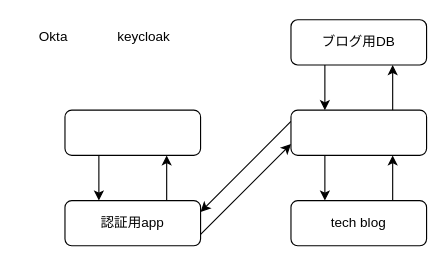
Some shapes in this 446 by 266 pixel diagram are drawn without their labels. Each missing label, with the centre of its shape:
tech blog API: the point at 358,132
認証用DB: the point at 132,132
